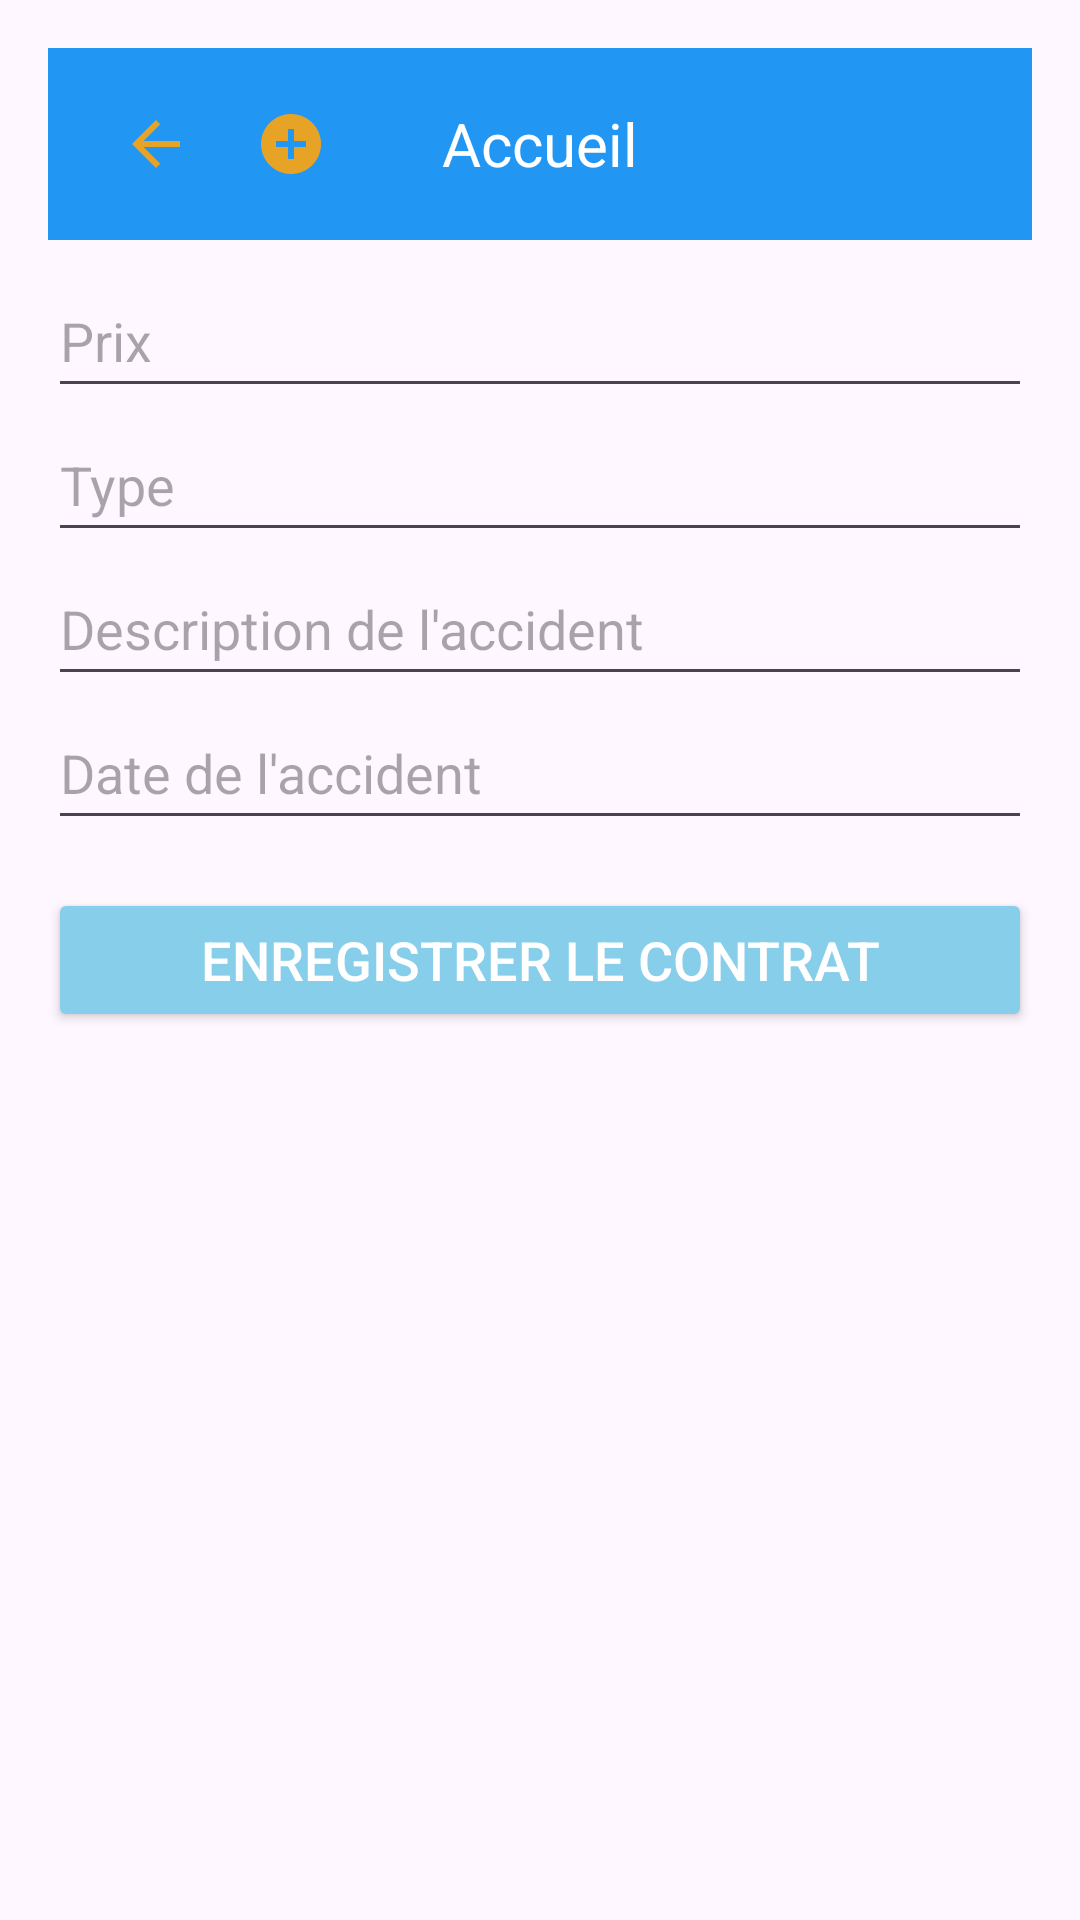

Where to tap for icons on this 1080px x 1920px app screen, as (x=x, y=y):
Ajouter: (x=291, y=144)
Retour: (x=156, y=144)
